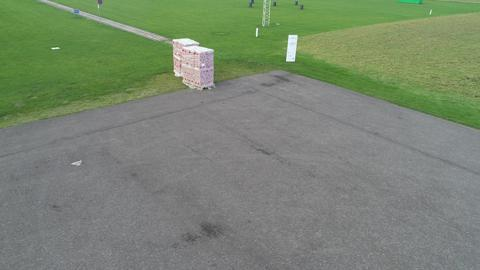RockwoolPallet: (173, 36, 199, 69)
